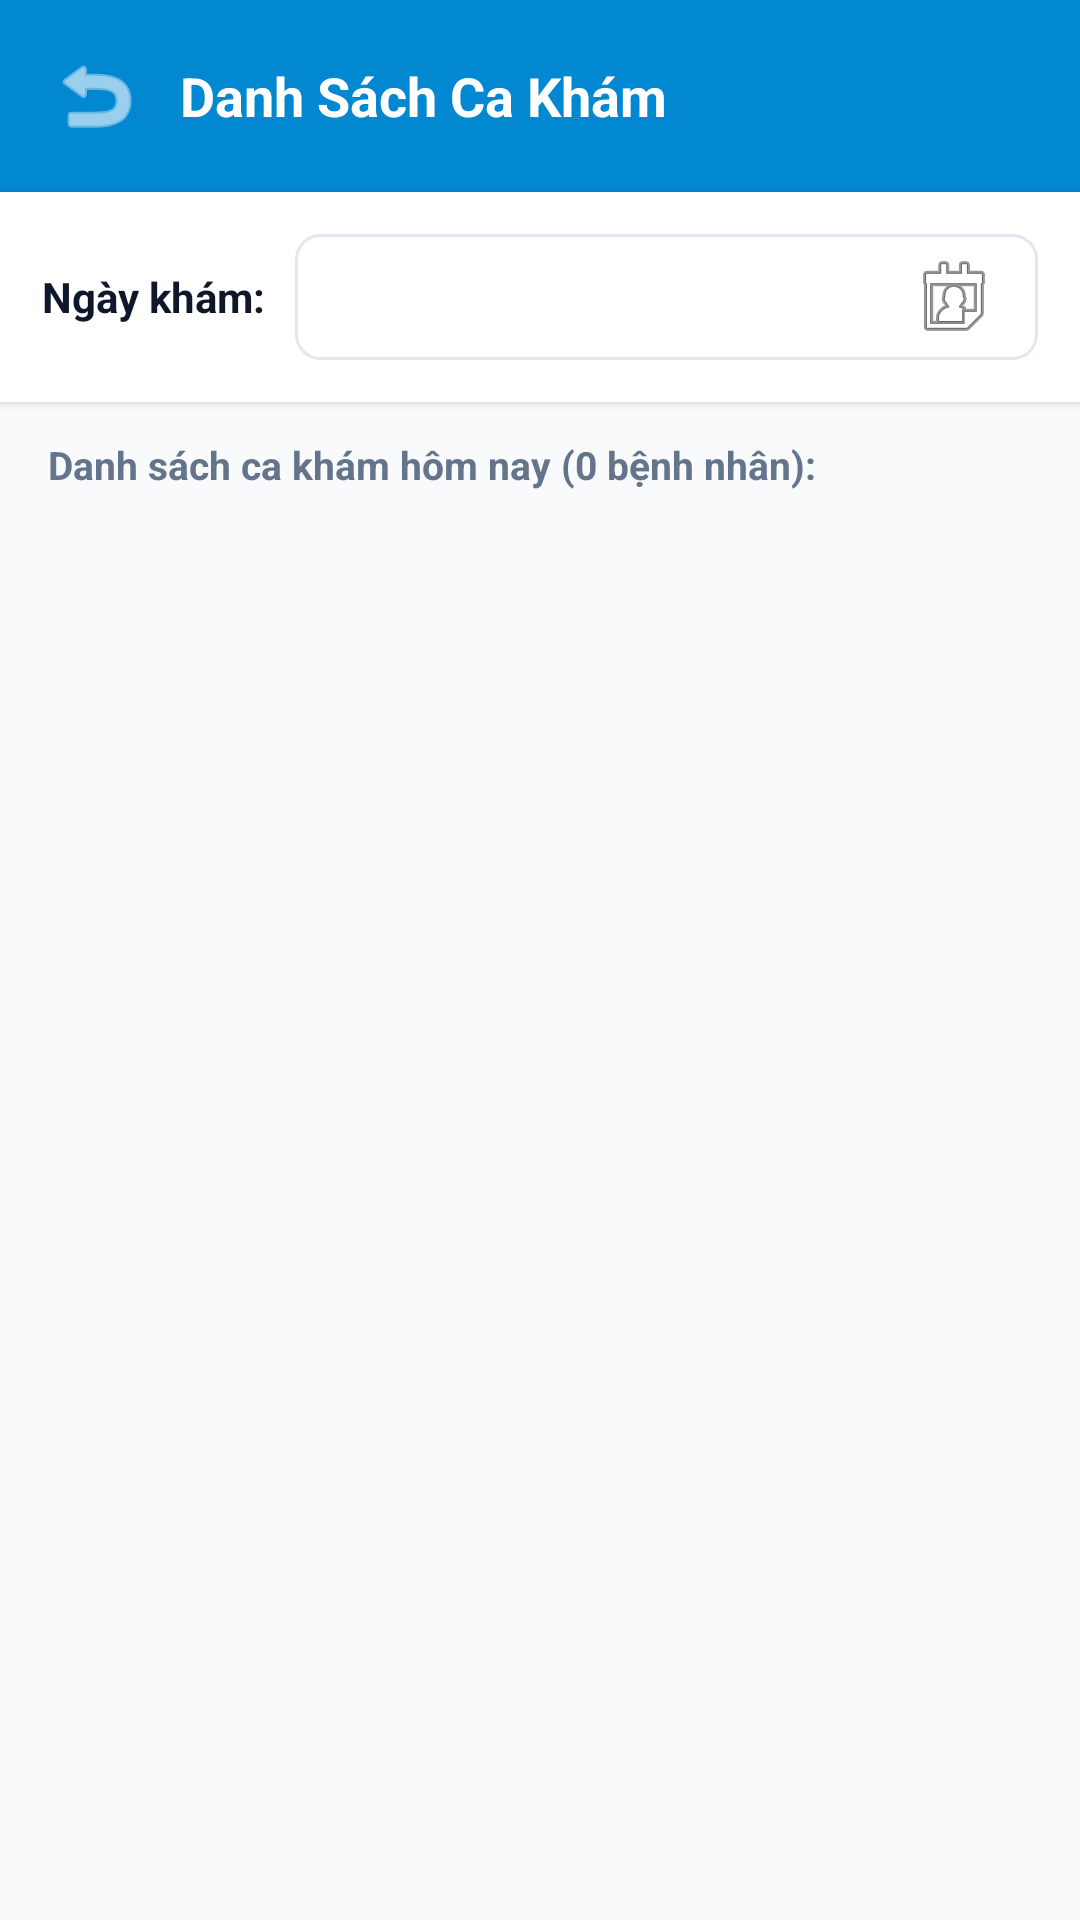

Icon click points for this 1080px×1920px phone screenshot, format [x,y]:
revert: [97,96]
